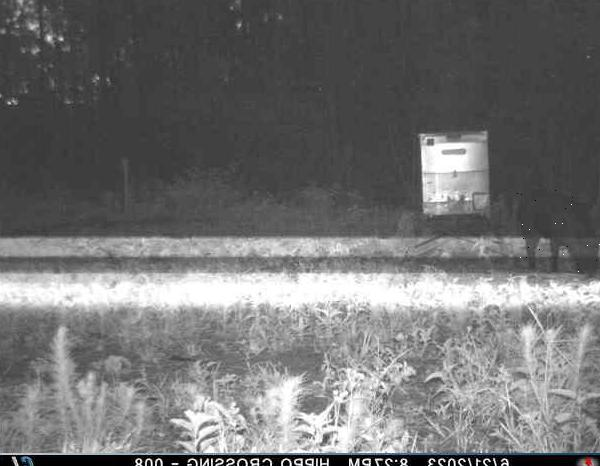Hog: (517, 190, 600, 278)
